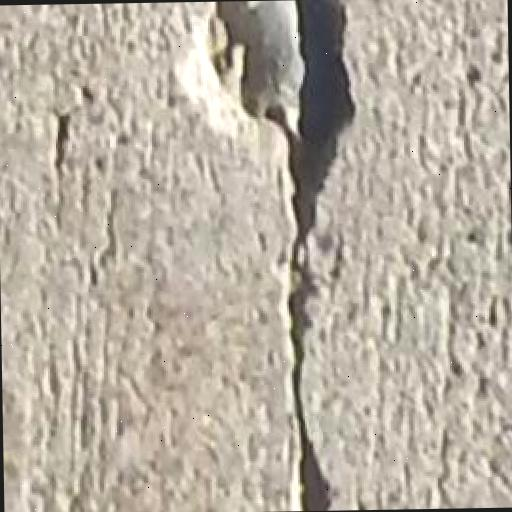spalling: (173, 5, 373, 507)
